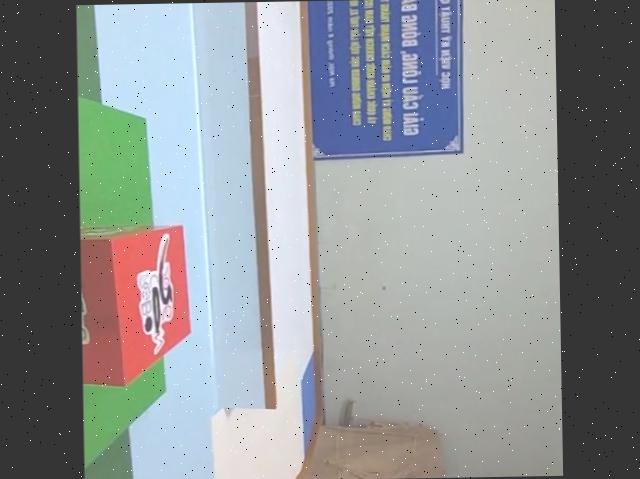R1: (80, 221, 202, 390)
